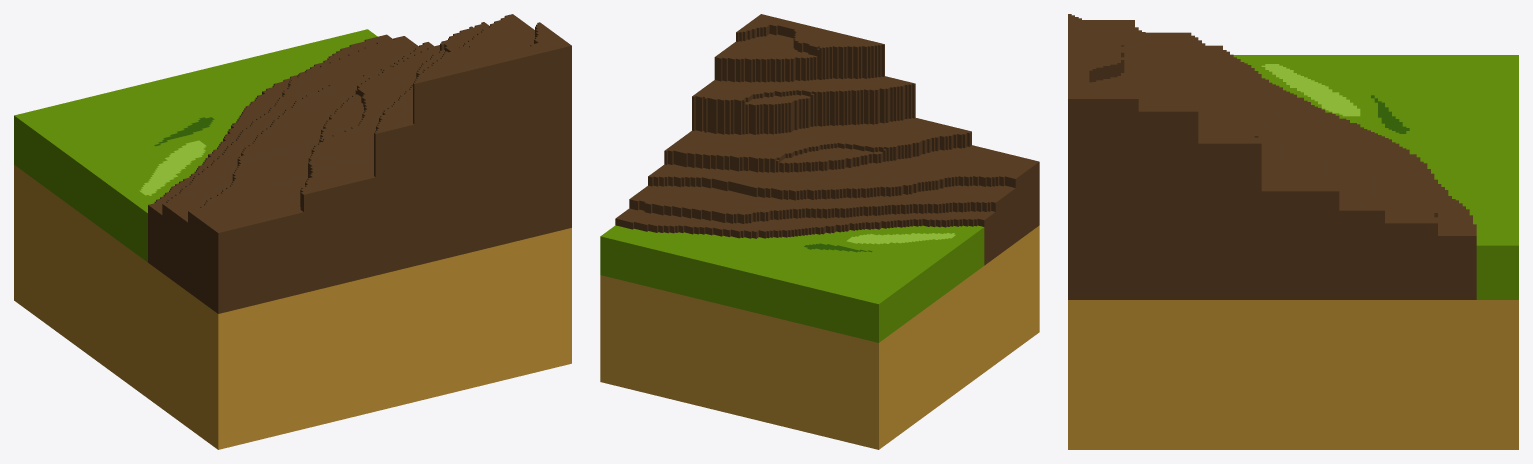
3 views of the same model, side by side, from view 1: azimuth 30°, elevation 25°; view 2: azimuth 150°, elevation 25°; view 3: azimuth 270°, elevation 25° (orthographic). The views are drawn at different scales.
Parts seen in each view (by area): view 1: 16O; view 2: 16O; view 3: 16O.
Part boxes in pixels (<box>): 16O: <box>14,14,571,449</box>; 16O: <box>600,14,1039,449</box>; 16O: <box>1068,14,1518,449</box>.
Bounding box in the file's own units: 12.8 × 11 × 12.8.
1 material, 1 textured.
